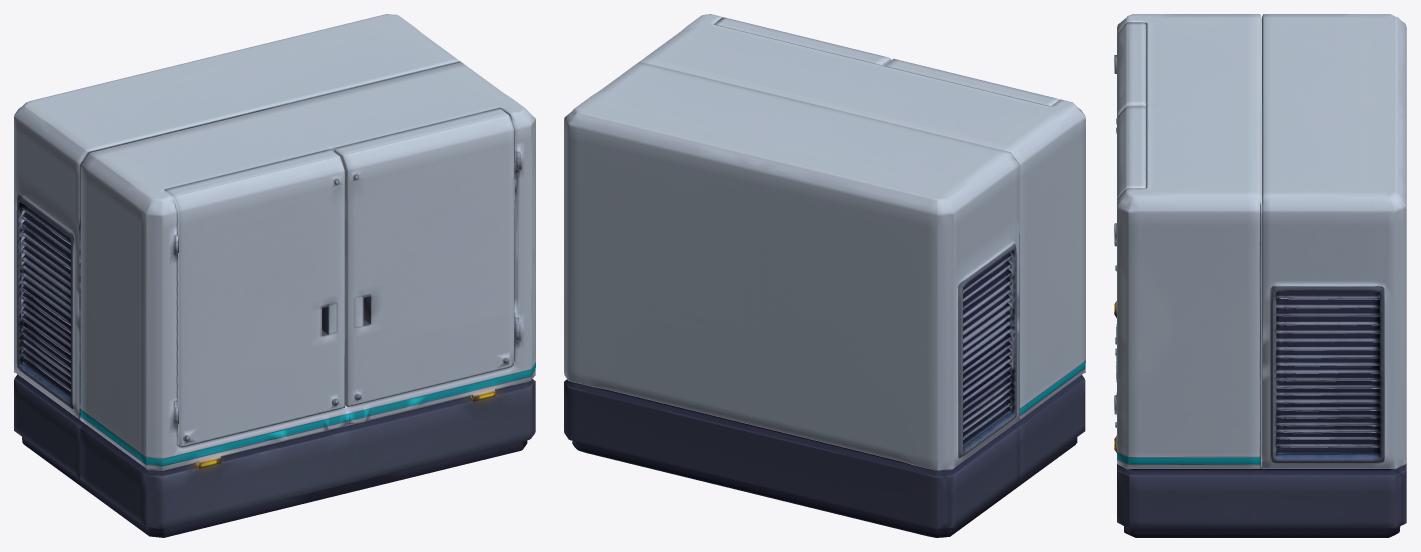
The model's file is specimen_filter_h31_pbr4k.glb.
The picture shows the model from 3 angles, left to right: view 1: azimuth 30°, elevation 25°; view 2: azimuth 150°, elevation 25°; view 3: azimuth 270°, elevation 25°; orthographic projection.
Visible parts, largest first — view 1: SpecimenFilterH31Measured; view 2: SpecimenFilterH31Measured; view 3: SpecimenFilterH31Measured.
Part boxes in pixels (x1,y1,x2,y2): SpecimenFilterH31Measured: (14, 14, 535, 537); SpecimenFilterH31Measured: (564, 14, 1085, 537); SpecimenFilterH31Measured: (1114, 14, 1406, 537).
Bounding box in the file's own units: 2.2 × 1.8 × 1.4.
1 material, 1 textured.
